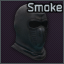Smoke balaclava: (0, 0, 64, 64)
